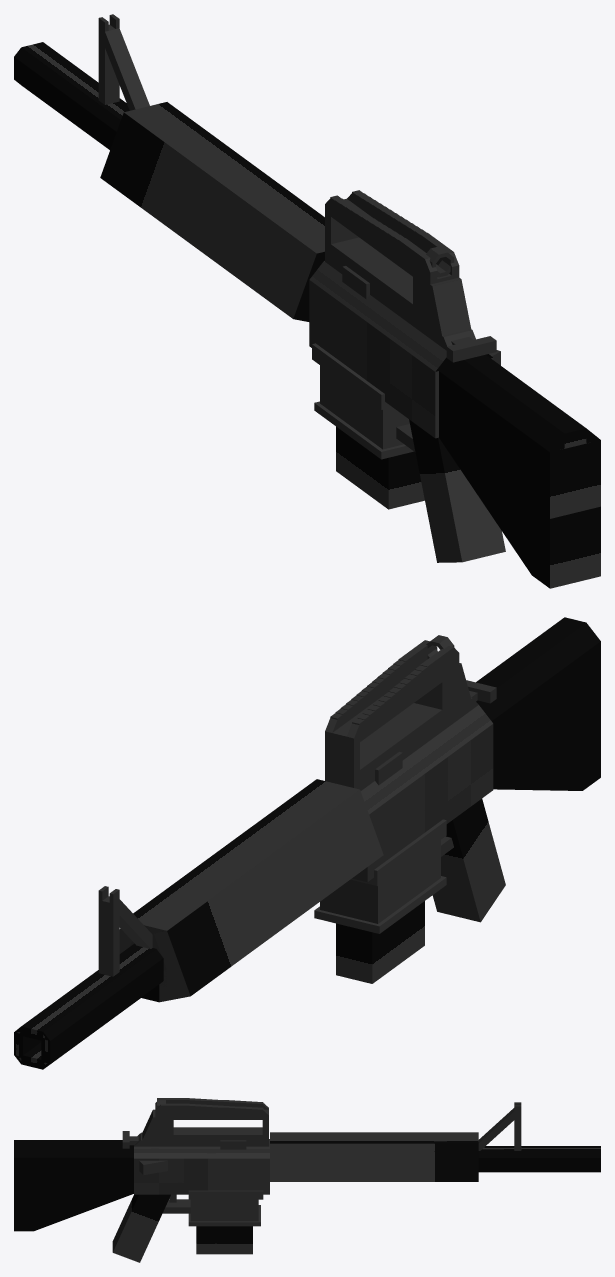
File: mteg_m16a1.glb
The picture shows the model from 3 angles, top to bottom: view 1: azimuth 30°, elevation 25°; view 2: azimuth 150°, elevation 25°; view 3: azimuth 270°, elevation 25°; orthographic projection. The views are drawn at different scales.
Visible parts, largest first — view 1: Gun; view 2: Gun; view 3: Gun.
Boxes of the visible parts, x1,y1,x2,y2 form: Gun: [14, 14, 600, 588]; Gun: [14, 617, 600, 1069]; Gun: [14, 1098, 600, 1262].
Bounding box in the file's own units: 0.1557 × 0.4807 × 1.62.
Materials: 1 (1 with a texture image).
